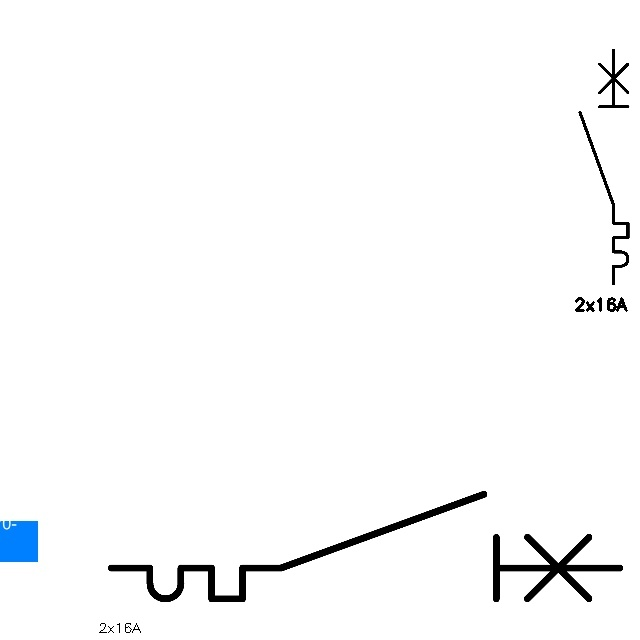interruptor_termomagnetico: (98, 481, 633, 612), (574, 44, 634, 290)
